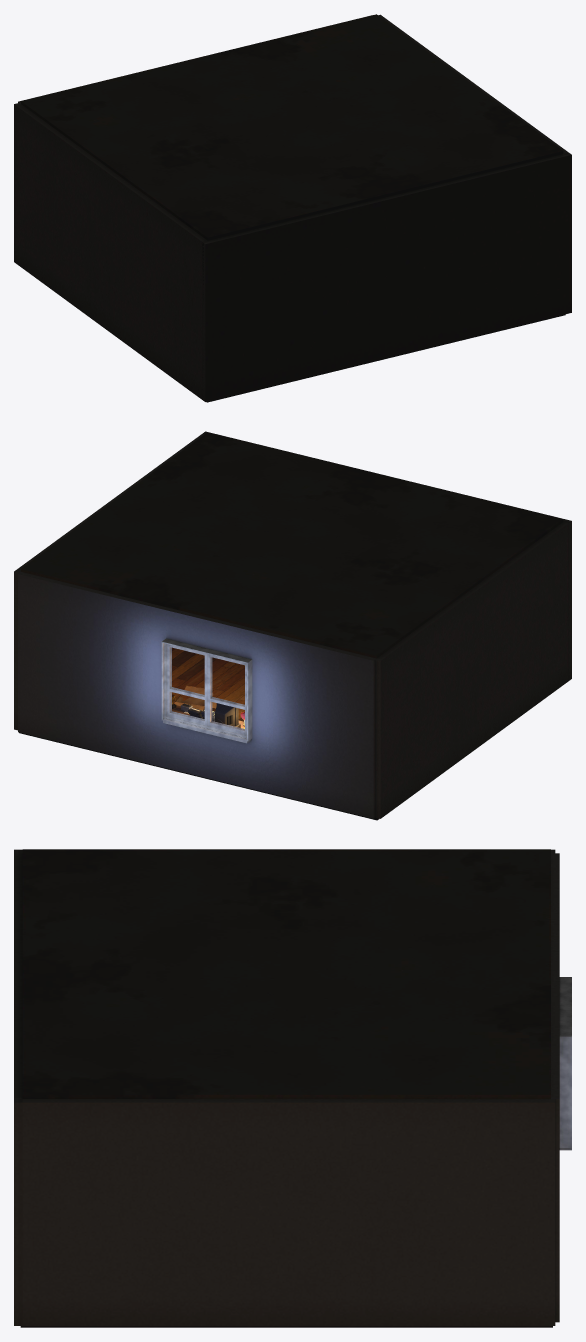
Rendered from sakina-room-std.glb.
3 renders of one model, top to bottom at view 1: azimuth 30°, elevation 25°; view 2: azimuth 150°, elevation 25°; view 3: azimuth 270°, elevation 25°, orthographic. The views are drawn at different scales.
Visible parts, largest first — view 1: Room_Shell; view 2: Room_Shell, Room_Window, Room_Floor; view 3: Room_Shell, Room_Window.
Boxes of the visible parts, <box> form: Room_Shell: <box>14,14,571,402</box>; Room_Shell: <box>14,431,571,820</box>; Room_Window: <box>161,638,252,743</box>; Room_Floor: <box>172,647,244,721</box>; Room_Shell: <box>14,849,559,1327</box>; Room_Window: <box>559,977,571,1150</box>.
Bounding box in the file's own units: 6.8 × 2.91 × 6.34.
Materials: 12 (12 with a texture image).
